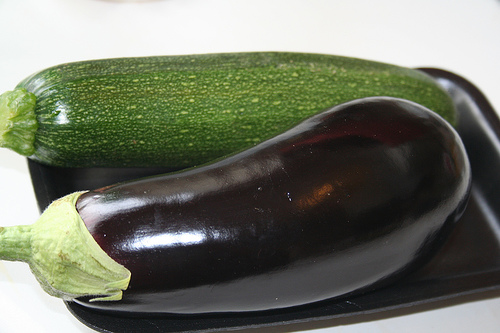eggplant: (3, 86, 473, 315)
